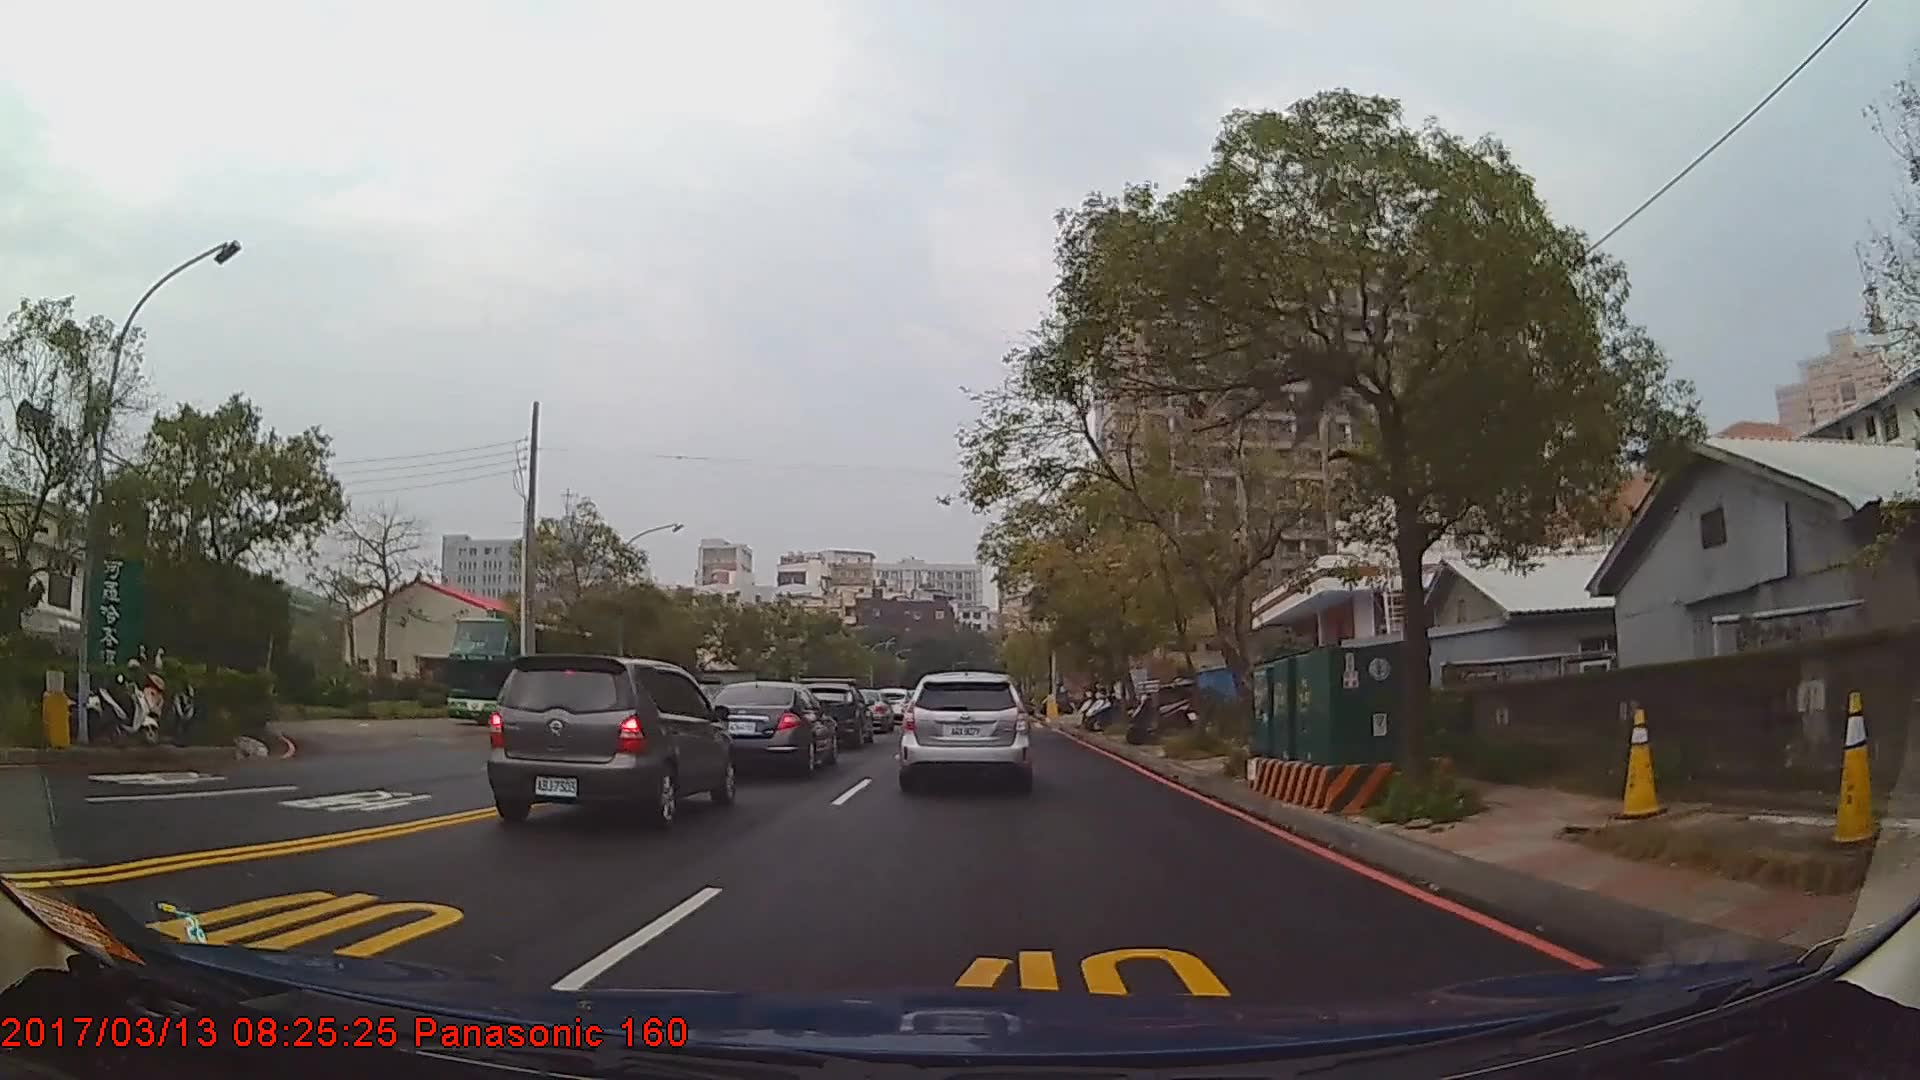vehicle: (484, 655, 737, 836), (447, 615, 616, 727), (898, 669, 1031, 789), (702, 680, 837, 775), (793, 682, 870, 746)
